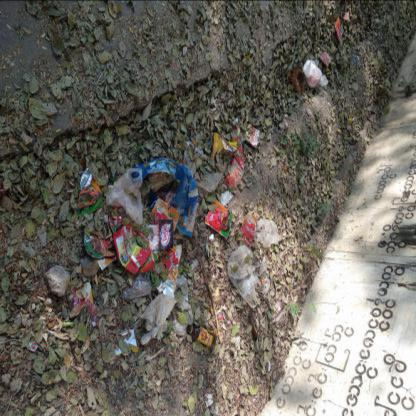Bottle cap: (187, 324, 217, 348)
Plastic bag - wrapper: (133, 158, 199, 237), (227, 245, 270, 309), (83, 205, 124, 270), (106, 168, 144, 224), (113, 225, 151, 274), (141, 293, 177, 344), (77, 166, 102, 216), (157, 244, 182, 292), (205, 199, 233, 239), (148, 197, 180, 231), (224, 142, 247, 188), (132, 228, 155, 273), (122, 271, 151, 302), (146, 220, 174, 250), (210, 132, 237, 159), (254, 219, 279, 248), (240, 212, 260, 248), (173, 301, 194, 335), (303, 60, 328, 88), (68, 283, 93, 310), (113, 329, 137, 356), (183, 141, 205, 165), (196, 173, 222, 192), (227, 125, 241, 156), (83, 298, 98, 326), (211, 287, 223, 322), (148, 192, 167, 209), (246, 126, 260, 147), (335, 16, 344, 41), (319, 51, 331, 68), (26, 336, 38, 352), (276, 300, 285, 320), (164, 287, 175, 299), (176, 274, 187, 285), (190, 258, 199, 270), (343, 12, 349, 25)
Unlabeled litter: (220, 188, 234, 206)
